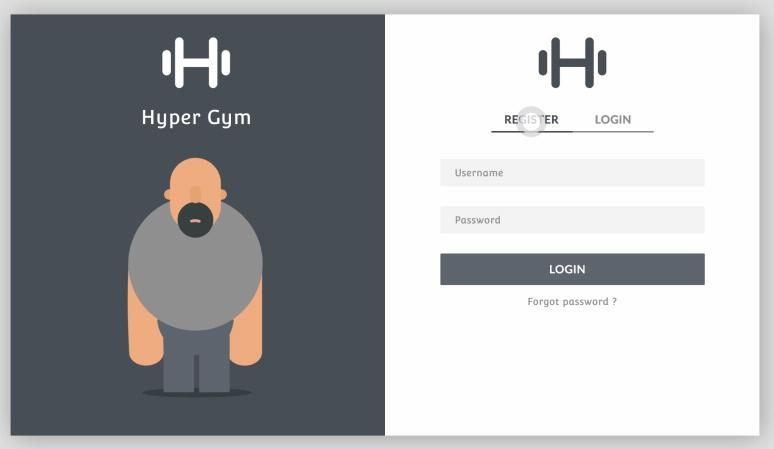button: (442, 255, 705, 286)
input: (443, 157, 705, 190), (442, 205, 705, 235)
label: (134, 103, 260, 134), (502, 111, 563, 130), (590, 113, 637, 128)
